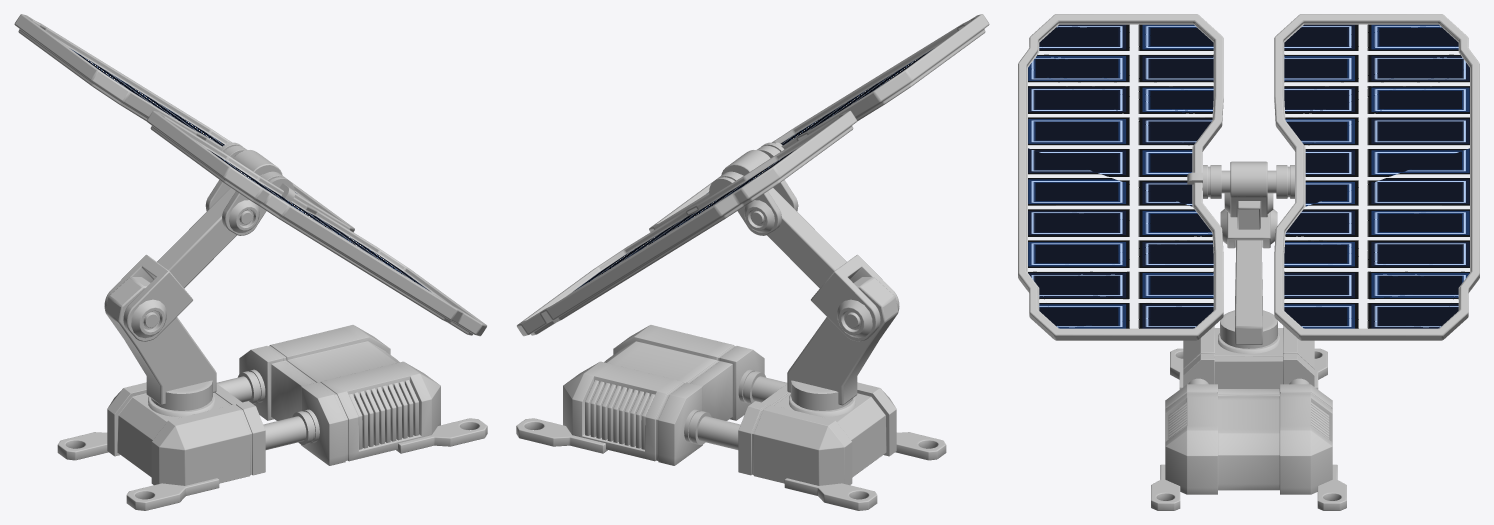
The model's file is rfs_solar_v6.fbx.
The picture shows the model from 3 angles, left to right: view 1: azimuth 30°, elevation 25°; view 2: azimuth 150°, elevation 25°; view 3: azimuth 270°, elevation 25°; orthographic projection. The views are drawn at different scales.
Visible parts, largest first — view 1: rfs_solar_v6; view 2: rfs_solar_v6; view 3: rfs_solar_v6.
Boxes of the visible parts, x1,y1,x2,y2 form: rfs_solar_v6: (14, 14, 487, 510); rfs_solar_v6: (516, 14, 989, 510); rfs_solar_v6: (1018, 14, 1479, 510).
Bounding box in the file's own units: 3.96 × 4.25 × 5.
